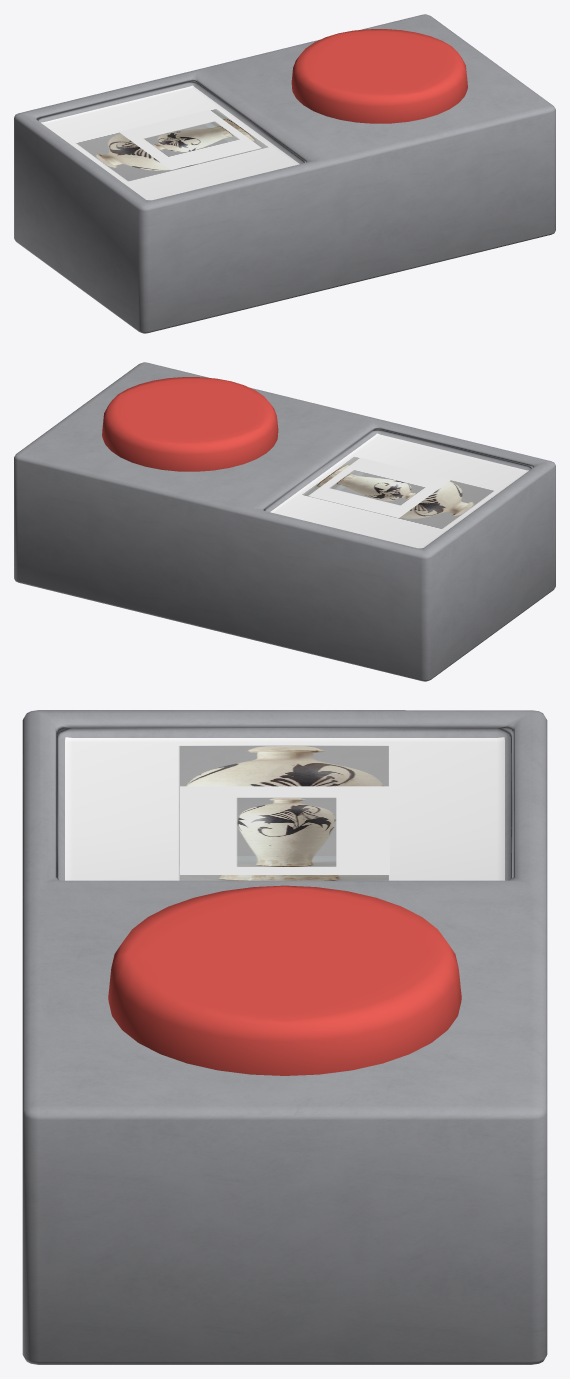
File: Button_Cizhou.glb
The picture shows the model from 3 angles, top to bottom: view 1: azimuth 30°, elevation 25°; view 2: azimuth 150°, elevation 25°; view 3: azimuth 270°, elevation 25°; orthographic projection. The views are drawn at different scales.
Visible parts, largest first — view 1: Cube, Circle, Plane; view 2: Cube, Circle, Plane; view 3: Cube, Circle, Plane.
Boxes of the visible parts, x1,y1,x2,y2 form: Cube: (14, 14, 555, 333); Circle: (291, 29, 467, 123); Plane: (119, 109, 261, 169); Cube: (14, 362, 555, 681); Circle: (102, 377, 278, 471); Plane: (308, 457, 450, 517); Cube: (22, 710, 547, 1364); Circle: (108, 885, 461, 1075); Plane: (180, 786, 389, 874).
Bounding box in the file's own units: 3.67 × 1.28 × 2.
Materials: 4 (3 with a texture image).
